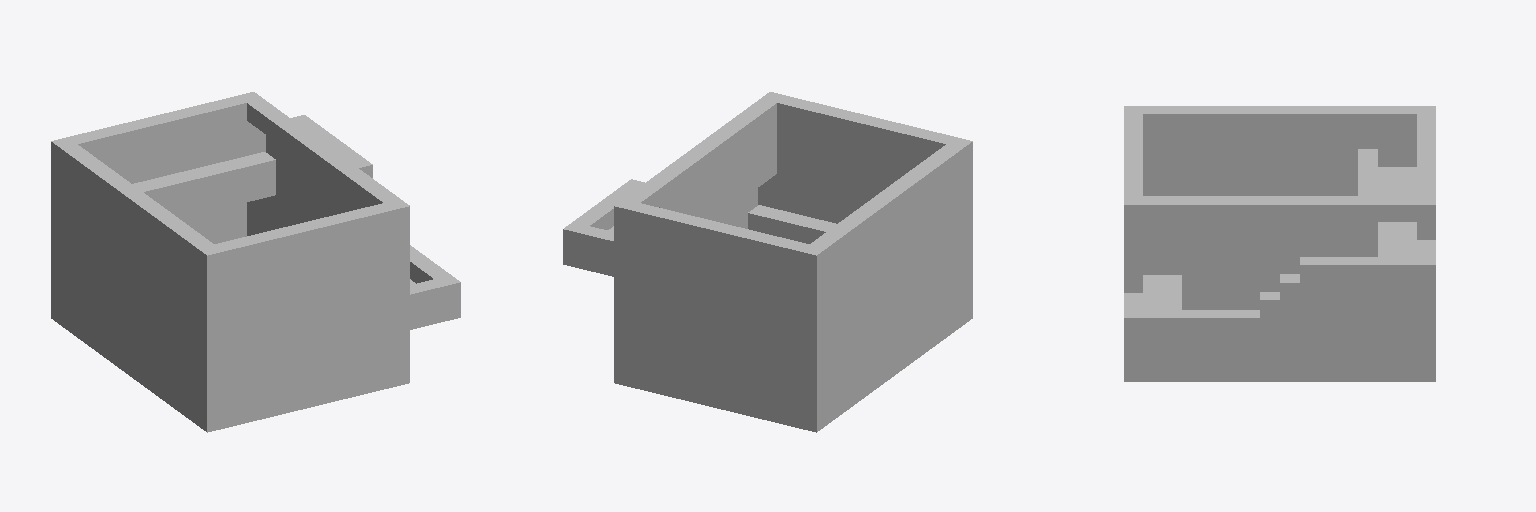
Rendered from Room.obj.
The picture shows the model from 3 angles: view 1: azimuth 30°, elevation 25°; view 2: azimuth 150°, elevation 25°; view 3: azimuth 270°, elevation 25°; orthographic projection.
Visible parts, largest first — view 1: Cube.640; view 2: Cube.640; view 3: Cube.640.
Boxes of the visible parts, x1,y1,x2,y2 form: Cube.640: [51, 92, 460, 432]; Cube.640: [563, 92, 972, 432]; Cube.640: [1124, 106, 1435, 381].
Bounding box in the file's own units: 15 × 10 × 16.